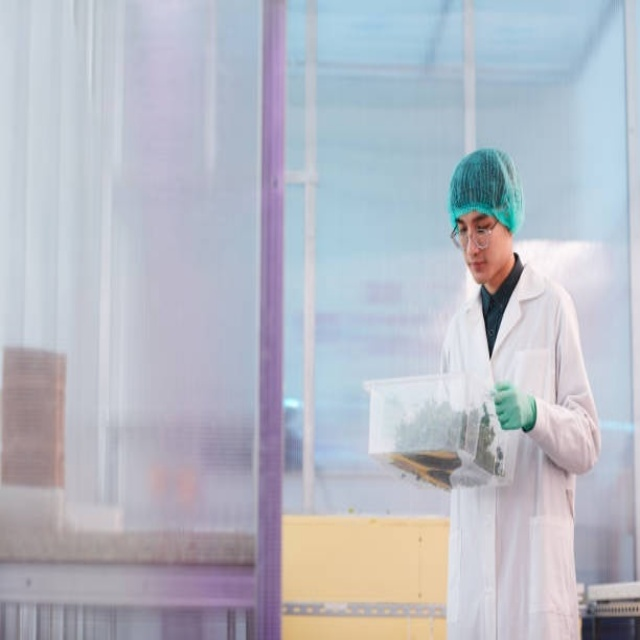Gafas: (451, 218, 500, 253)
Guantes: (491, 380, 536, 433)
Sin_mascara: (464, 254, 493, 282)
